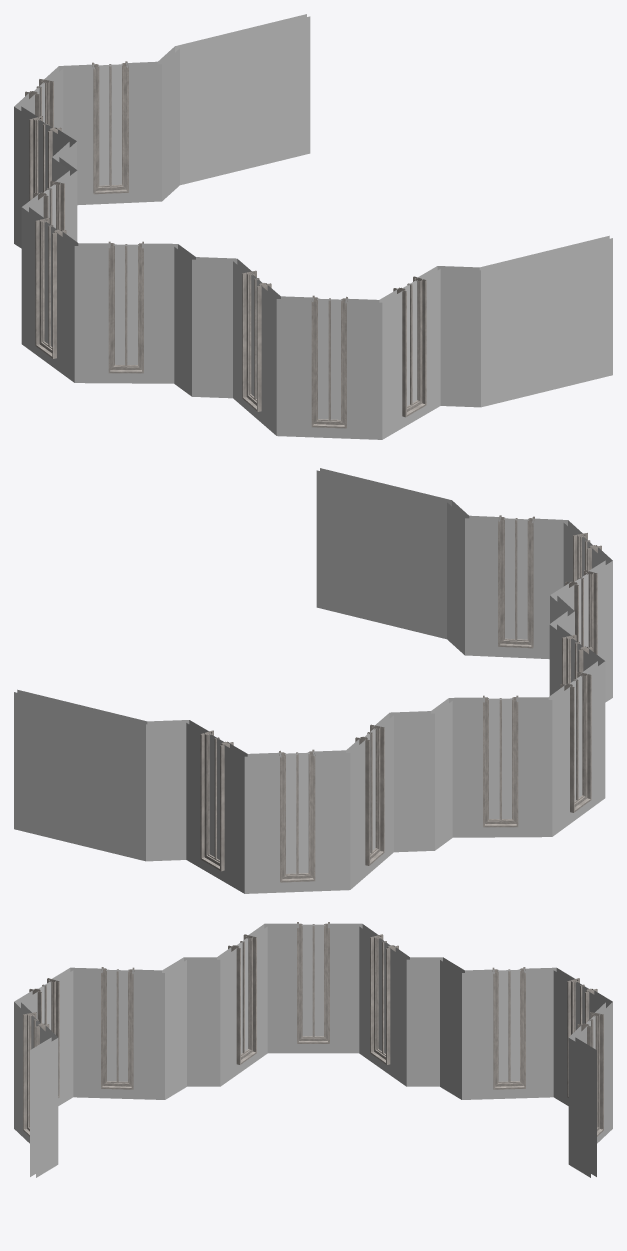
The model's file is Ambulatory_Outer_D_E.fbx.
3 views of the same model, one above another, from view 1: azimuth 30°, elevation 25°; view 2: azimuth 150°, elevation 25°; view 3: azimuth 270°, elevation 25° (orthographic). The views are drawn at different scales.
Visible parts, largest first — view 1: Ambulatory_Outer_D_E; view 2: Ambulatory_Outer_D_E; view 3: Ambulatory_Outer_D_E.
Part boxes in pixels (left/top/right/bottom): Ambulatory_Outer_D_E: left=14, top=14, right=612, bottom=439; Ambulatory_Outer_D_E: left=14, top=468, right=612, bottom=893; Ambulatory_Outer_D_E: left=14, top=922, right=612, bottom=1177.
Bounding box in the file's own units: 19.02 × 25.64 × 6.
